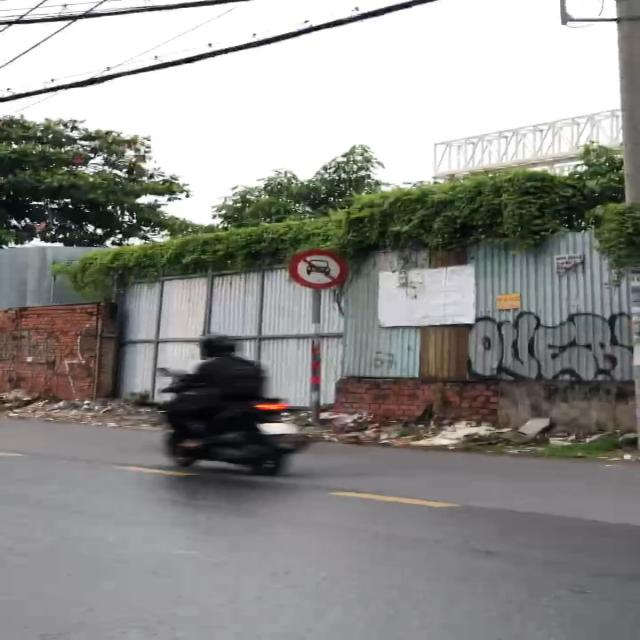Bien bao cam xe oto: (284, 246, 356, 291)
